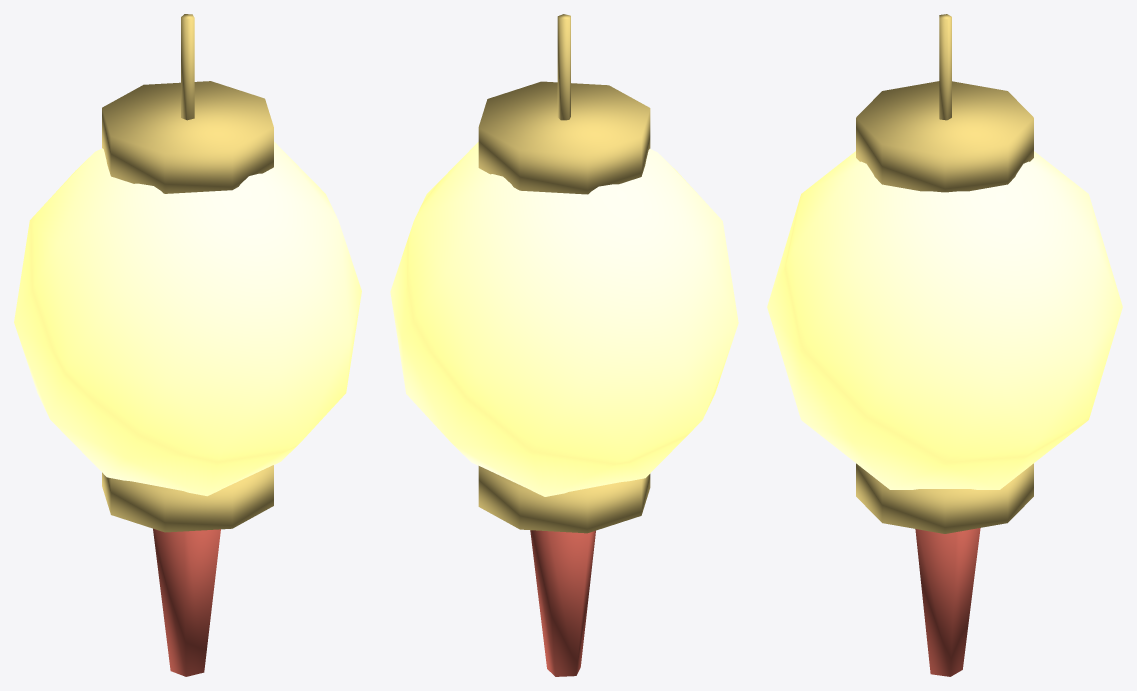
File: mini_lantern.glb
3 views of the same model, side by side, from view 1: azimuth 30°, elevation 25°; view 2: azimuth 150°, elevation 25°; view 3: azimuth 270°, elevation 25° (orthographic).
Parts seen in each view (by area): view 1: Lantern, CapTop, Tassel, CapBot, Cord; view 2: Lantern, CapTop, Tassel, CapBot, Cord; view 3: Lantern, CapTop, Tassel, CapBot, Cord.
Boxes of the visible parts, left/top/right/bottom form: Lantern: left=14, top=141, right=361, bottom=496; CapTop: left=102, top=81, right=273, bottom=193; Tassel: left=153, top=528, right=220, bottom=676; CapBot: left=102, top=465, right=273, bottom=532; Cord: left=181, top=14, right=194, bottom=120; Lantern: left=390, top=142, right=738, bottom=496; CapTop: left=478, top=81, right=650, bottom=194; Tassel: left=530, top=530, right=595, bottom=676; CapBot: left=478, top=466, right=650, bottom=533; Cord: left=557, top=14, right=570, bottom=120; Lantern: left=767, top=151, right=1122, bottom=489; CapTop: left=856, top=81, right=1033, bottom=192; Tassel: left=915, top=528, right=980, bottom=676; CapBot: left=856, top=463, right=1033, bottom=533; Cord: left=939, top=14, right=951, bottom=120.
Bounding box in the file's own units: 0.3804 × 0.81 × 0.4.
